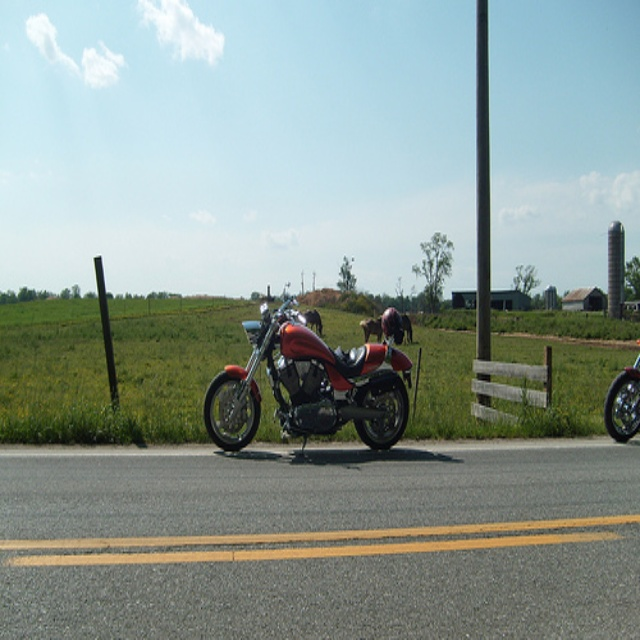Motorcycle: (202, 296, 413, 450), (604, 332, 640, 442)
